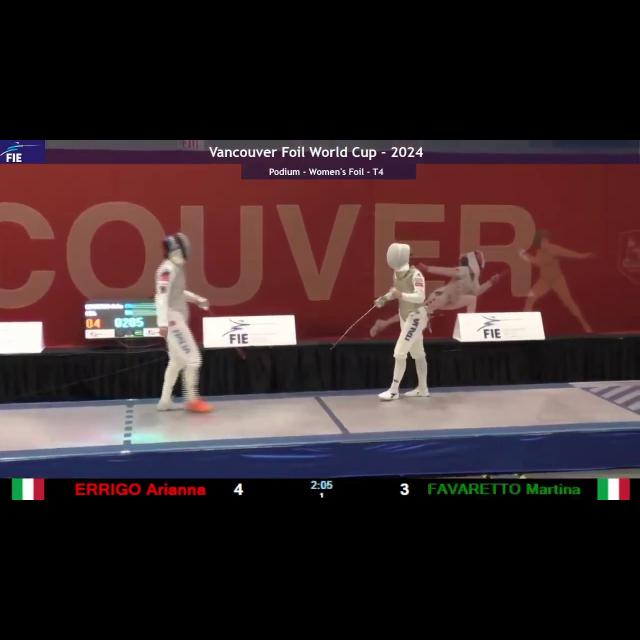blade: (329, 297, 387, 351)
